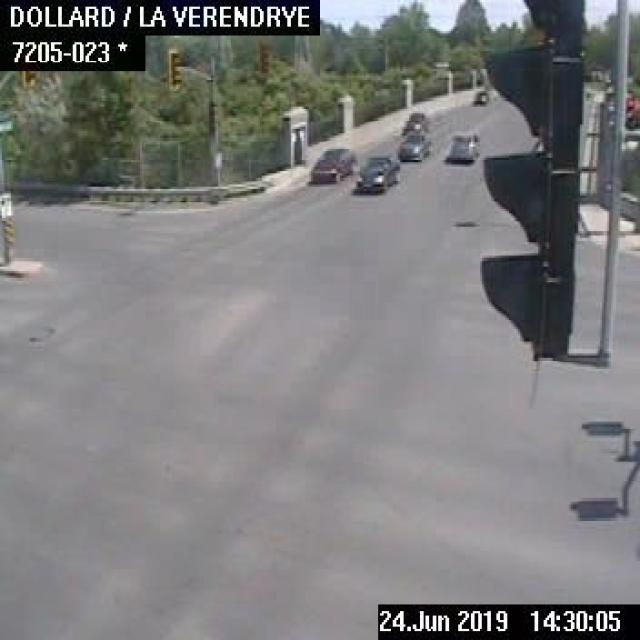vehicle: (308, 146, 355, 184), (356, 152, 398, 194), (396, 130, 434, 162), (445, 131, 480, 162), (398, 110, 429, 132), (471, 89, 491, 107)
